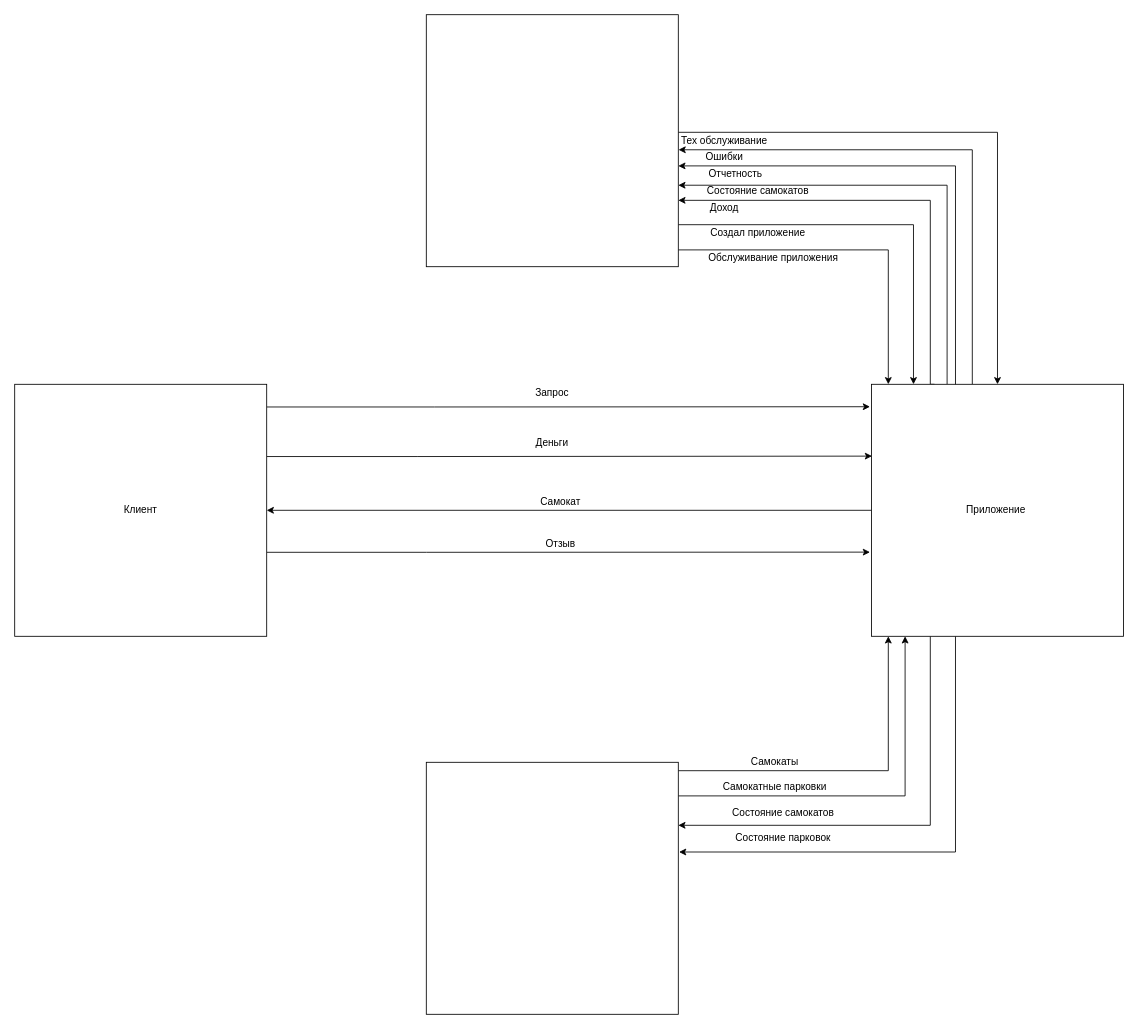
The diagram is 1138 pixels wide and 1029 high, and some of its shapes have lost their labels. Each missing label, with the centre of its shape:
"Руководитель (я)" belongs at (x=551, y=140).
"Тех центр" belongs at (x=551, y=887).
